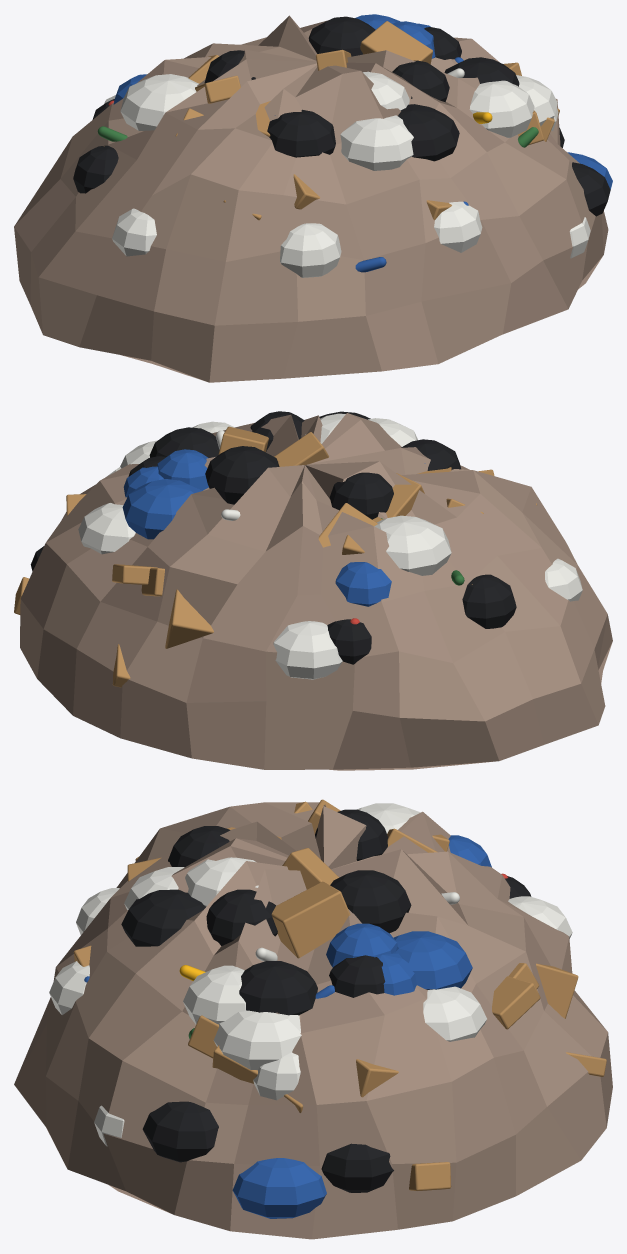
The model's file is heap_mixed.fbx.
3 renders of one model, top to bottom at view 1: azimuth 30°, elevation 25°; view 2: azimuth 150°, elevation 25°; view 3: azimuth 270°, elevation 25°, orthographic. The views are drawn at different scales.
Visible parts, largest first — view 1: heap_mixed; view 2: heap_mixed; view 3: heap_mixed.
Boxes of the visible parts, box(x1,y1,x2,y2) form: heap_mixed: box(14, 14, 612, 382); heap_mixed: box(14, 411, 612, 770); heap_mixed: box(14, 799, 612, 1239).
Bounding box in the file's own units: 3.5 × 1.33 × 2.9.
